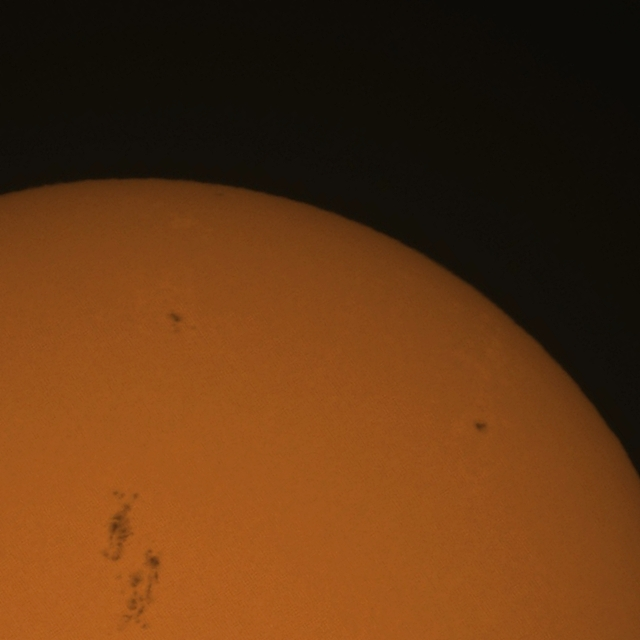sunspot: (118, 565, 158, 625), (123, 584, 152, 634), (108, 490, 140, 534), (111, 489, 139, 508), (168, 309, 183, 327), (472, 419, 488, 434)
